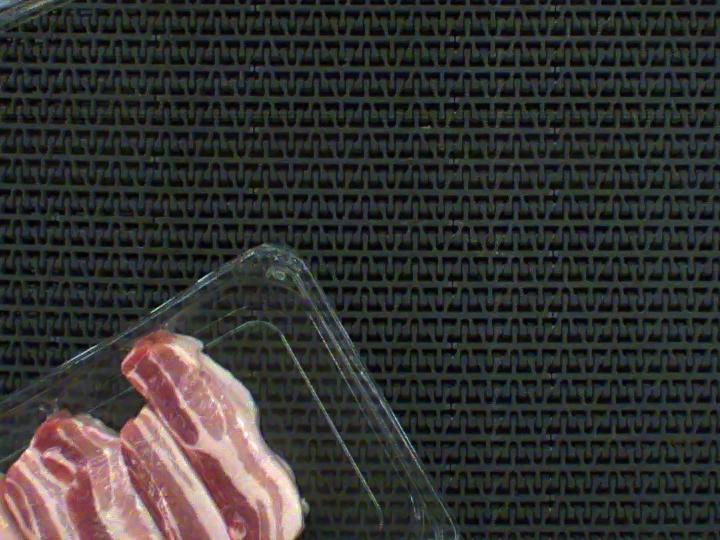packaging-error: (87, 318, 191, 384)
